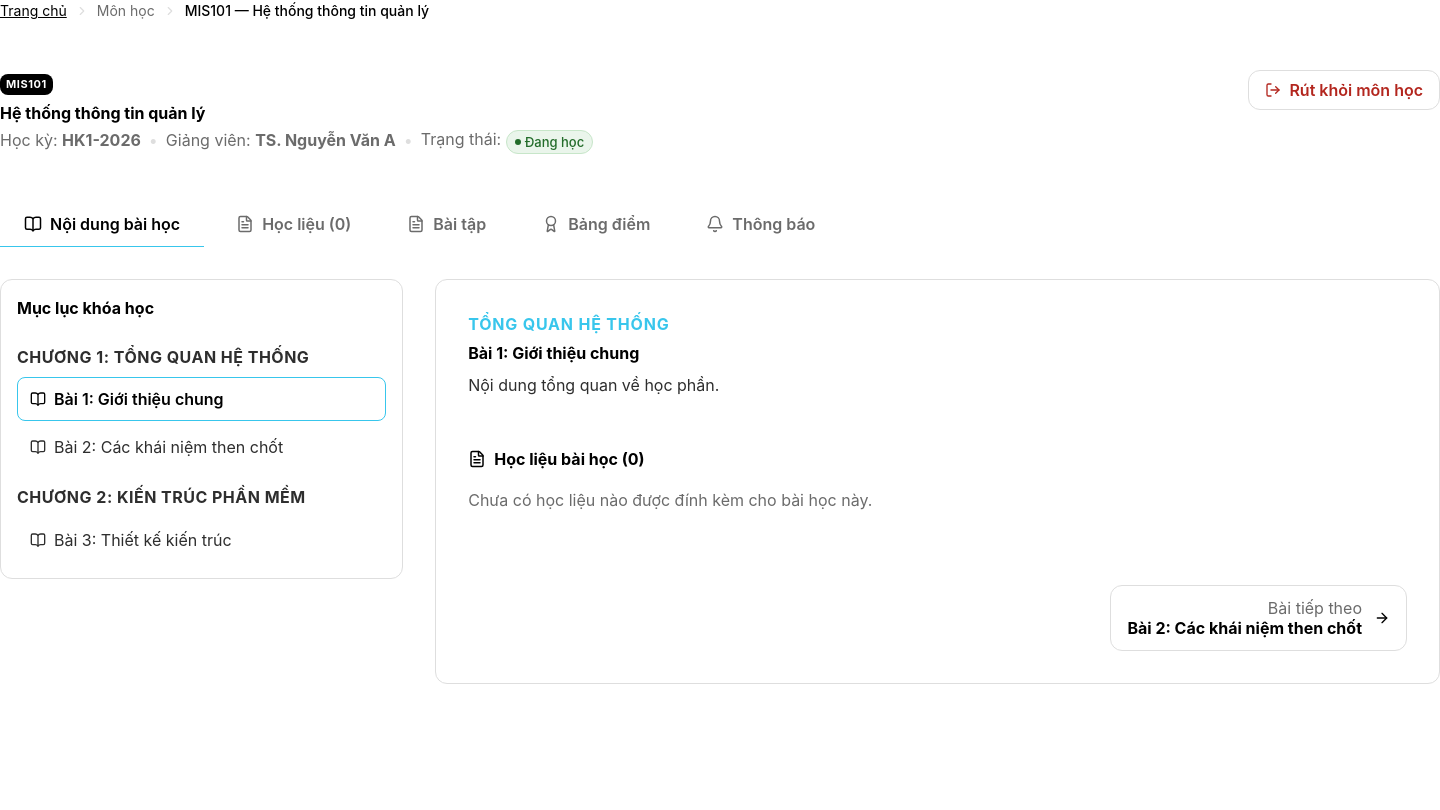
Test case: B07-05: Student Courses & Enrollment Requests UI › StudentCourseDetailPage › executes withdraw flow with confirmation modal
The width and height of the screenshot is (1440, 810).
Expected: the heading "Hệ thống thông tin quản lý" is shown, x1=0 y1=103 x2=206 y2=123
# Click withdraw button in header
Click the button "Rút khỏi môn học".
click(1344, 90)  # box x1=1248 y1=70 x2=1439 y2=110
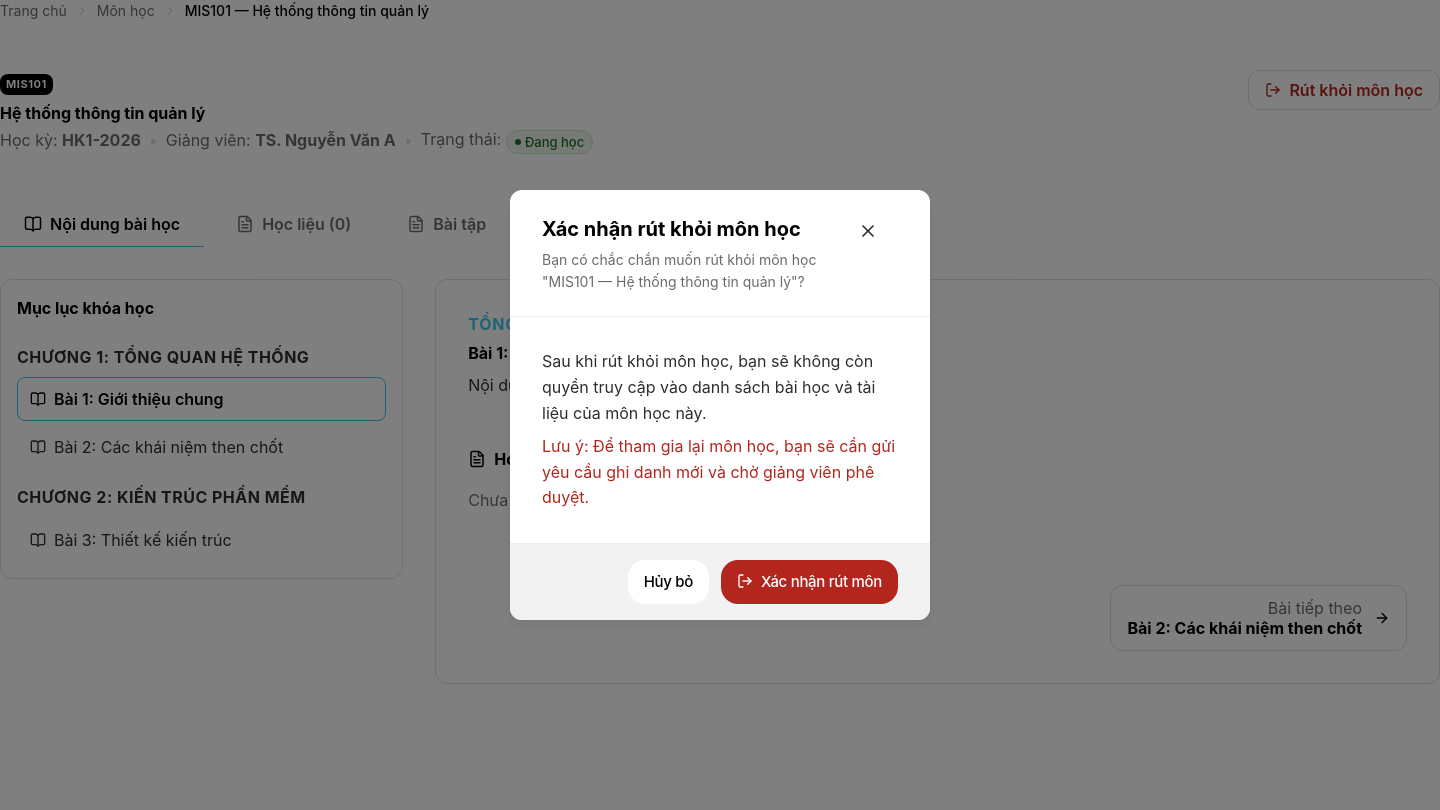
Expected: the dialog is shown, x1=510 y1=190 x2=930 y2=620
Expected: the heading "Xác nhận rút khỏi môn học" is shown, x1=542 y1=214 x2=830 y2=245
# Click confirm
Click the button "Xác nhận rút môn".
click(810, 582)  # box x1=721 y1=560 x2=898 y2=604
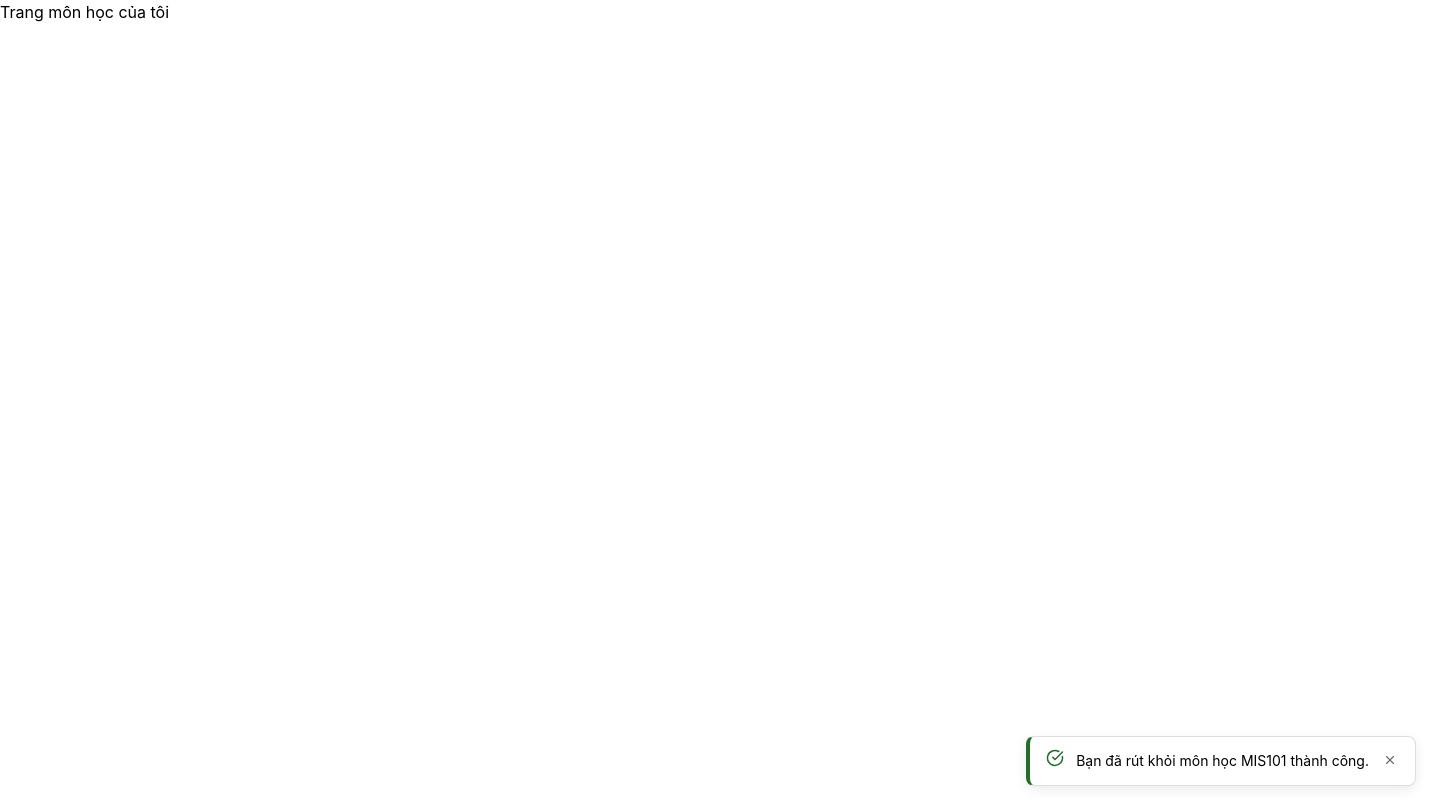
Expected: the text "Trang môn học của tôi" is shown, x1=0 y1=2 x2=169 y2=22
